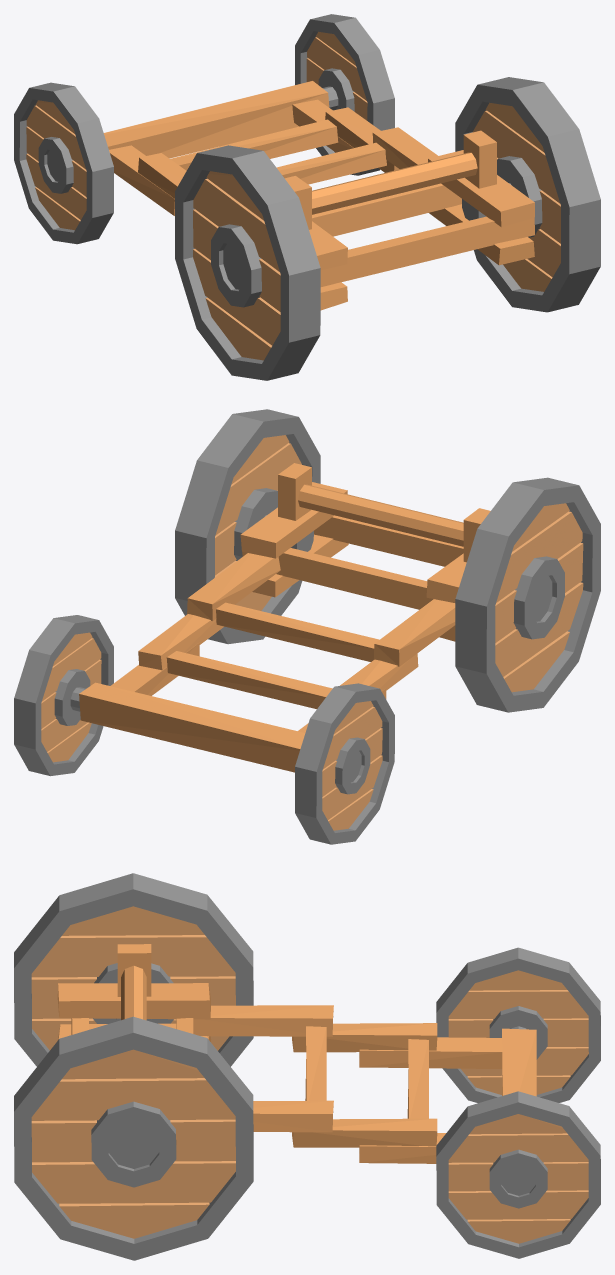
File: ballista_wheel.02.fbx
The picture shows the model from 3 angles, top to bottom: view 1: azimuth 30°, elevation 25°; view 2: azimuth 150°, elevation 25°; view 3: azimuth 270°, elevation 25°; orthographic projection. The views are drawn at different scales.
Visible parts, largest first — view 1: ballista_wheel.02; view 2: ballista_wheel.02; view 3: ballista_wheel.02.
Boxes of the visible parts, <box> form: ballista_wheel.02: <box>14,14,600,380</box>; ballista_wheel.02: <box>14,409,600,844</box>; ballista_wheel.02: <box>14,873,600,1260</box>.
Size of the model in its own units: 1.82 by 1.21 by 2.82.
